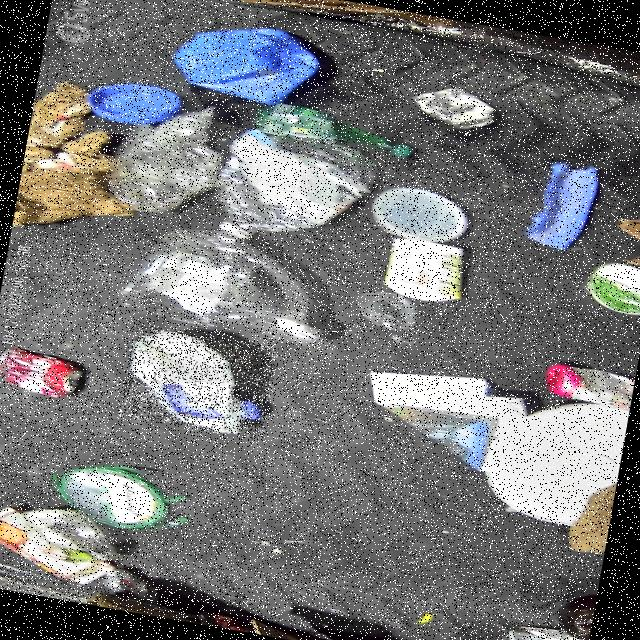milk-jug: (118, 322, 278, 440)
